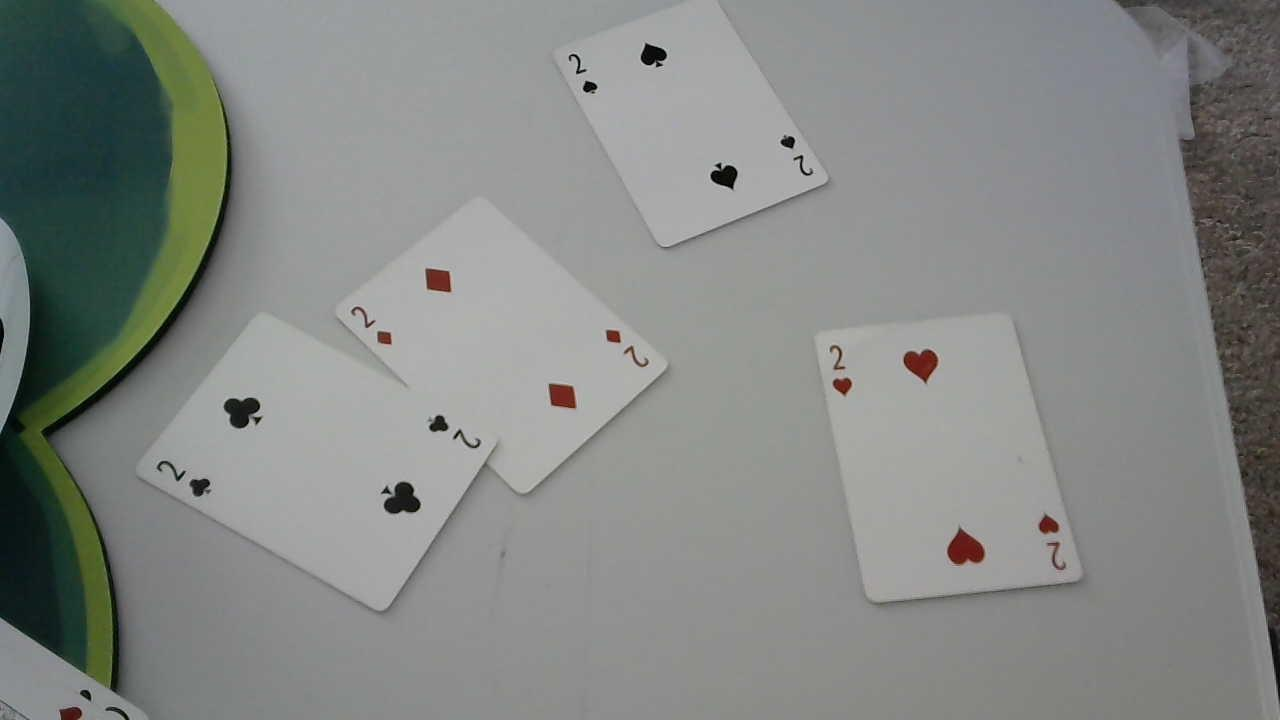2C: (150, 453, 218, 507), (421, 406, 484, 453)
2D: (348, 301, 402, 351), (600, 323, 654, 372)
2H: (1033, 510, 1072, 574), (827, 339, 857, 401)
2S: (774, 130, 817, 180), (561, 49, 602, 99)
